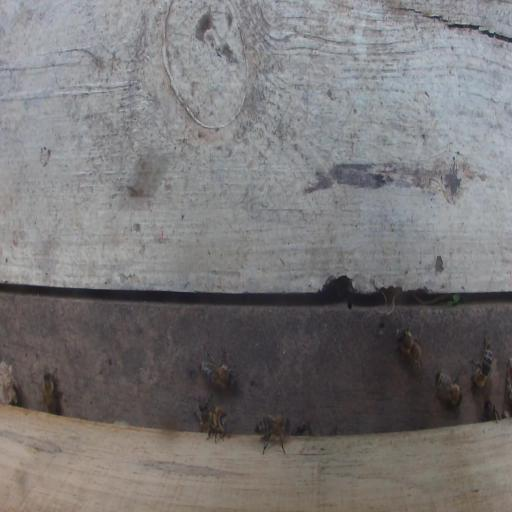bee: (255, 412, 290, 455), (200, 349, 237, 389), (395, 326, 423, 374), (469, 334, 492, 390), (199, 402, 229, 442), (434, 367, 464, 407), (42, 367, 58, 414), (482, 399, 499, 421)
